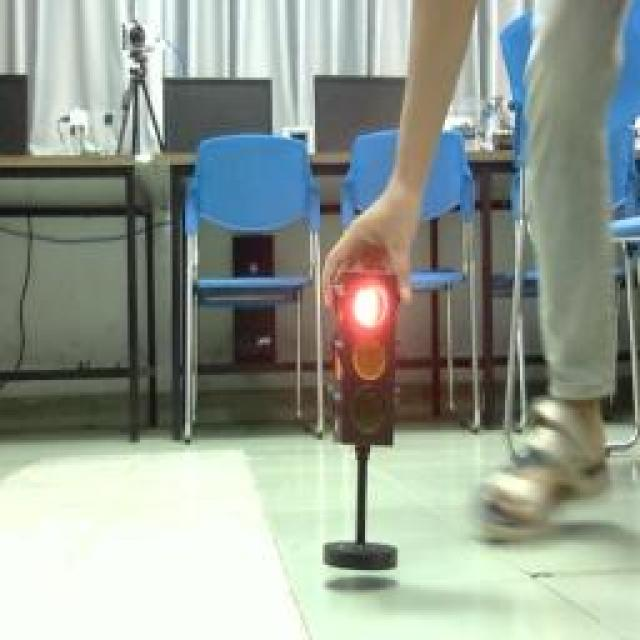-: (351, 278, 393, 326)
